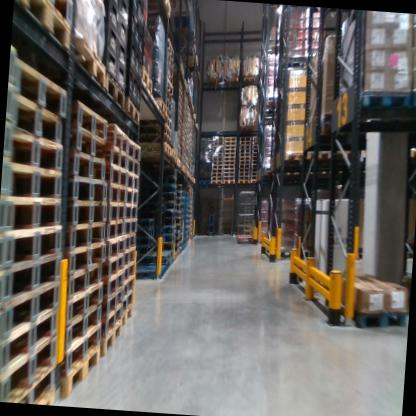pallet: (17, 0, 111, 89), (0, 308, 55, 395), (0, 254, 64, 322), (0, 332, 59, 403), (0, 281, 61, 347), (11, 58, 74, 119), (4, 220, 67, 275), (8, 98, 73, 149), (2, 198, 63, 245), (335, 299, 408, 338), (7, 128, 68, 174), (57, 319, 106, 371), (6, 165, 71, 203), (138, 97, 174, 162), (358, 84, 411, 126), (59, 277, 104, 326), (8, 362, 59, 405), (64, 297, 104, 350), (58, 347, 102, 395), (63, 240, 107, 284), (67, 98, 110, 142), (224, 74, 256, 132), (64, 256, 104, 300), (67, 124, 112, 163), (62, 211, 107, 250), (62, 171, 109, 206), (279, 141, 310, 184), (301, 143, 335, 182), (69, 197, 109, 230), (66, 153, 110, 181), (104, 66, 131, 111), (102, 318, 125, 361), (100, 235, 127, 269), (101, 268, 126, 304), (99, 249, 123, 286), (105, 300, 124, 339), (99, 289, 122, 320), (137, 63, 156, 97), (43, 0, 72, 22), (108, 125, 131, 152), (176, 31, 198, 58), (283, 53, 310, 75), (104, 220, 126, 246), (110, 149, 129, 179), (133, 133, 173, 147), (106, 199, 127, 225), (125, 136, 143, 164), (146, 0, 171, 19), (355, 146, 376, 168), (110, 165, 131, 186), (128, 91, 141, 124), (36, 387, 59, 405), (179, 49, 200, 68), (120, 276, 138, 298), (333, 150, 356, 167), (121, 246, 138, 269), (121, 260, 137, 284), (123, 230, 140, 252), (151, 123, 173, 140), (135, 264, 166, 276), (137, 221, 157, 239), (108, 187, 127, 205), (122, 288, 135, 312), (125, 175, 142, 193), (128, 157, 143, 176), (124, 201, 139, 220), (137, 239, 156, 254), (150, 249, 170, 263), (154, 115, 172, 130), (125, 189, 139, 208), (137, 214, 156, 228), (157, 210, 179, 222), (158, 200, 179, 211), (123, 304, 135, 323), (264, 98, 278, 114), (138, 234, 156, 246), (162, 232, 177, 246), (158, 175, 177, 186), (158, 217, 175, 229), (162, 190, 179, 202), (164, 43, 177, 58), (127, 218, 138, 235), (158, 185, 178, 194), (243, 74, 257, 86), (159, 227, 176, 236), (166, 78, 175, 94), (161, 169, 178, 177), (409, 143, 416, 162), (167, 54, 176, 68), (165, 87, 173, 102), (165, 70, 175, 82), (412, 85, 416, 114), (166, 63, 176, 74), (211, 179, 223, 188), (201, 179, 211, 189), (211, 171, 224, 178), (223, 155, 236, 162), (164, 242, 174, 251), (164, 101, 172, 112), (169, 152, 177, 163), (224, 143, 236, 150), (238, 136, 252, 142), (176, 141, 182, 154), (178, 79, 184, 92), (211, 164, 224, 170), (224, 135, 237, 141), (224, 140, 237, 146), (223, 159, 236, 165), (222, 180, 235, 186), (238, 179, 251, 185), (172, 142, 179, 153), (211, 160, 223, 166), (212, 156, 224, 162), (212, 148, 224, 154), (212, 136, 224, 142), (224, 148, 236, 154), (223, 167, 235, 173), (178, 95, 183, 109), (163, 260, 169, 271), (224, 172, 235, 178), (239, 164, 250, 170), (239, 156, 250, 162), (223, 151, 236, 156), (238, 175, 251, 180), (167, 258, 176, 265), (249, 179, 258, 186), (167, 108, 173, 118), (176, 117, 182, 127), (177, 109, 182, 121), (176, 103, 182, 113), (211, 177, 223, 182), (212, 168, 224, 173), (212, 153, 224, 158), (223, 164, 235, 169), (224, 176, 236, 181), (174, 132, 182, 139), (176, 159, 181, 170), (177, 88, 182, 99), (175, 230, 180, 241), (213, 145, 224, 150), (213, 141, 224, 146), (239, 172, 250, 177), (239, 169, 250, 174), (240, 149, 251, 154), (240, 142, 251, 147), (169, 248, 175, 257), (177, 196, 183, 205), (239, 161, 251, 165), (177, 137, 182, 146), (251, 136, 260, 141), (240, 153, 251, 157), (240, 146, 251, 150), (176, 211, 182, 218), (175, 224, 181, 231), (178, 124, 182, 134), (176, 185, 182, 191), (177, 205, 183, 211), (252, 145, 260, 149), (252, 149, 260, 153), (250, 176, 258, 180), (176, 218, 181, 224), (253, 141, 259, 146), (251, 152, 257, 157), (177, 154, 181, 161), (178, 190, 182, 197), (175, 246, 179, 253), (250, 172, 257, 176), (175, 240, 179, 246), (251, 160, 257, 164), (174, 252, 177, 259), (252, 156, 257, 160), (252, 164, 257, 168), (252, 168, 257, 172)
